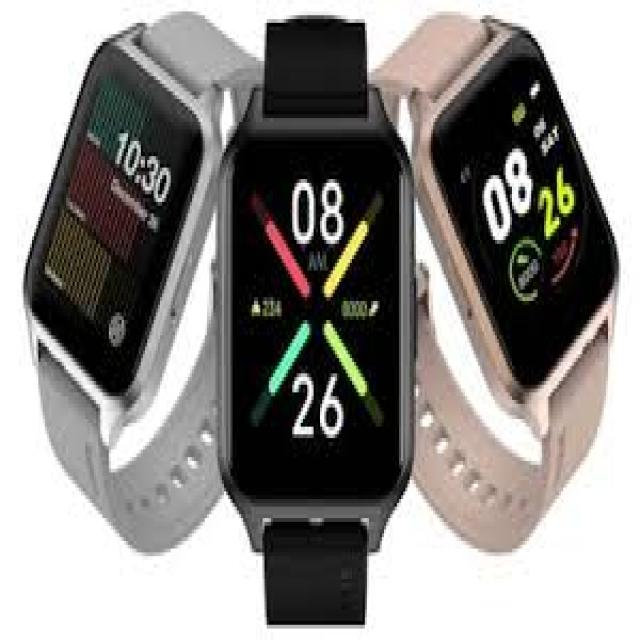objects: (371, 11, 622, 558), (23, 5, 258, 558), (218, 16, 412, 633)
